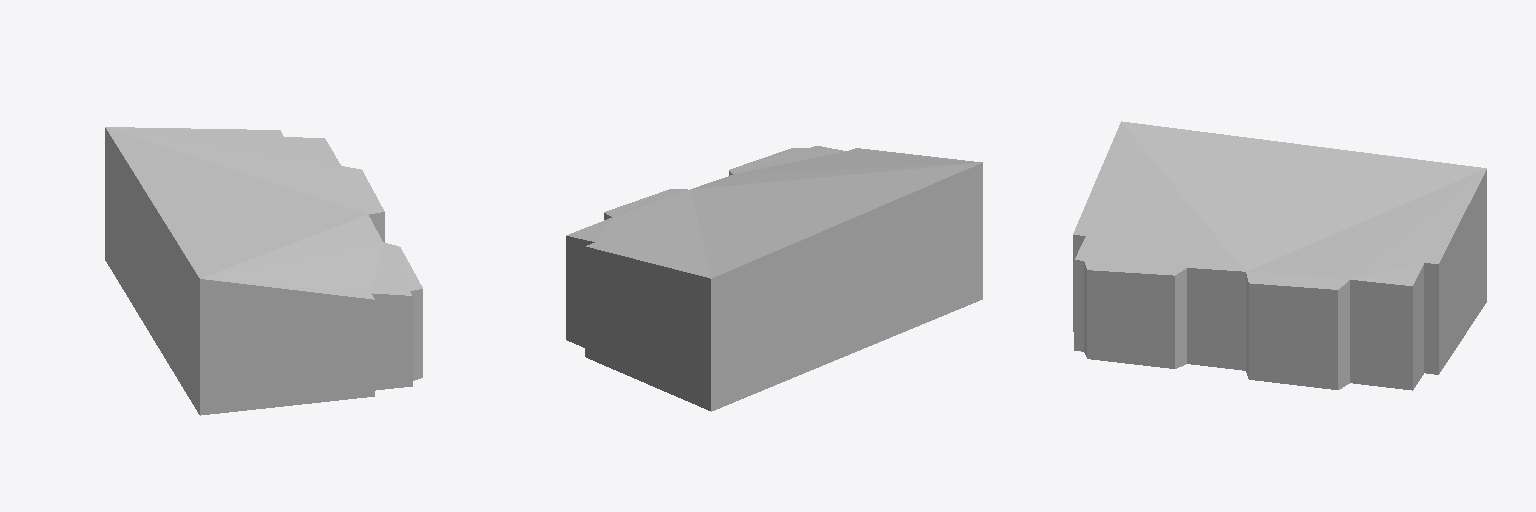
Rendered from ATB2.obj.
3 renders of one model, left to right at view 1: azimuth 30°, elevation 25°; view 2: azimuth 150°, elevation 25°; view 3: azimuth 270°, elevation 25°, orthographic.
Visible parts, largest first — view 1: Areas:building.006; view 2: Areas:building.006; view 3: Areas:building.006.
Boxes of the visible parts, x1=… form: Areas:building.006: x1=105, y1=127, x2=422, y2=415; Areas:building.006: x1=566, y1=146, x2=982, y2=411; Areas:building.006: x1=1073, y1=121, x2=1486, y2=390.
Size of the model in its own units: 46.44 by 22.38 by 61.47.